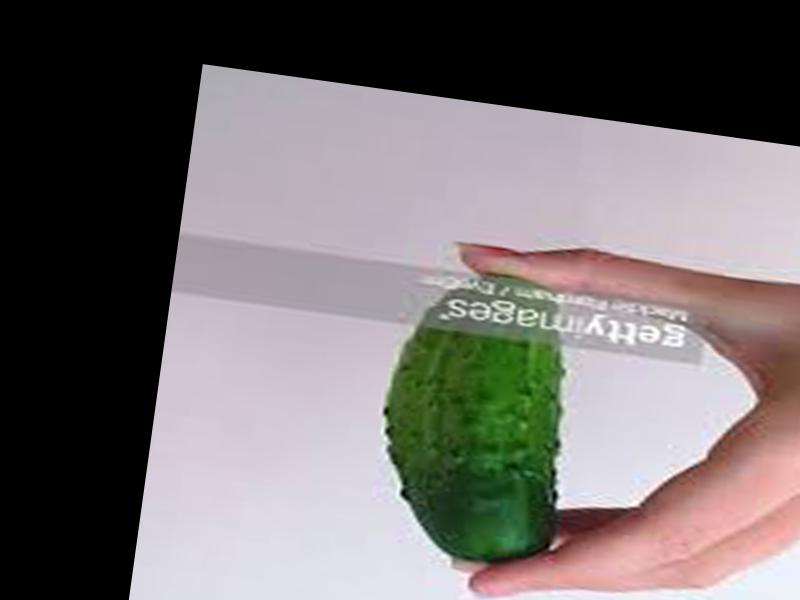Cucumber: (364, 260, 585, 571)
